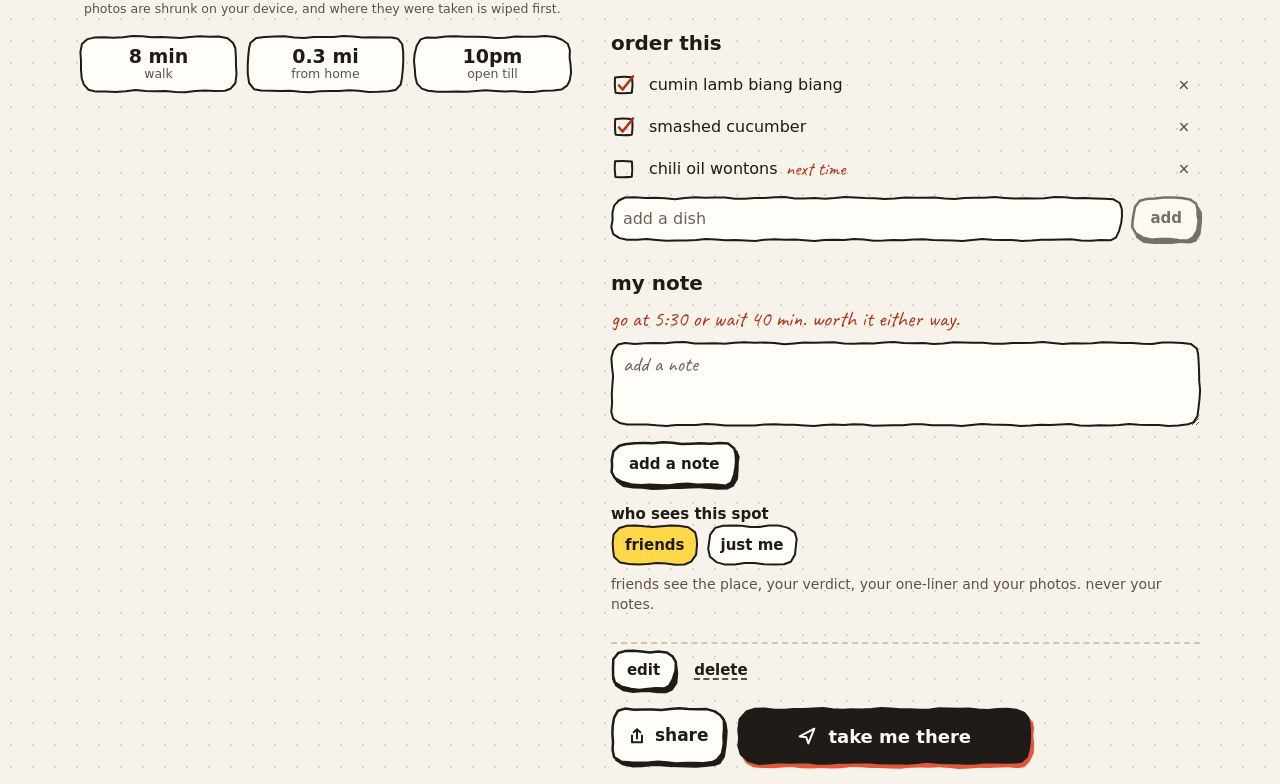
Test: on the place page › a refused save is explained (by error code) and nothing changes
This screenshot has width=1280, height=784.
(page scrolled)
Type "one more" into the text box named "New note".
click(905, 384); type("one more")  # box [611, 342, 1200, 426]
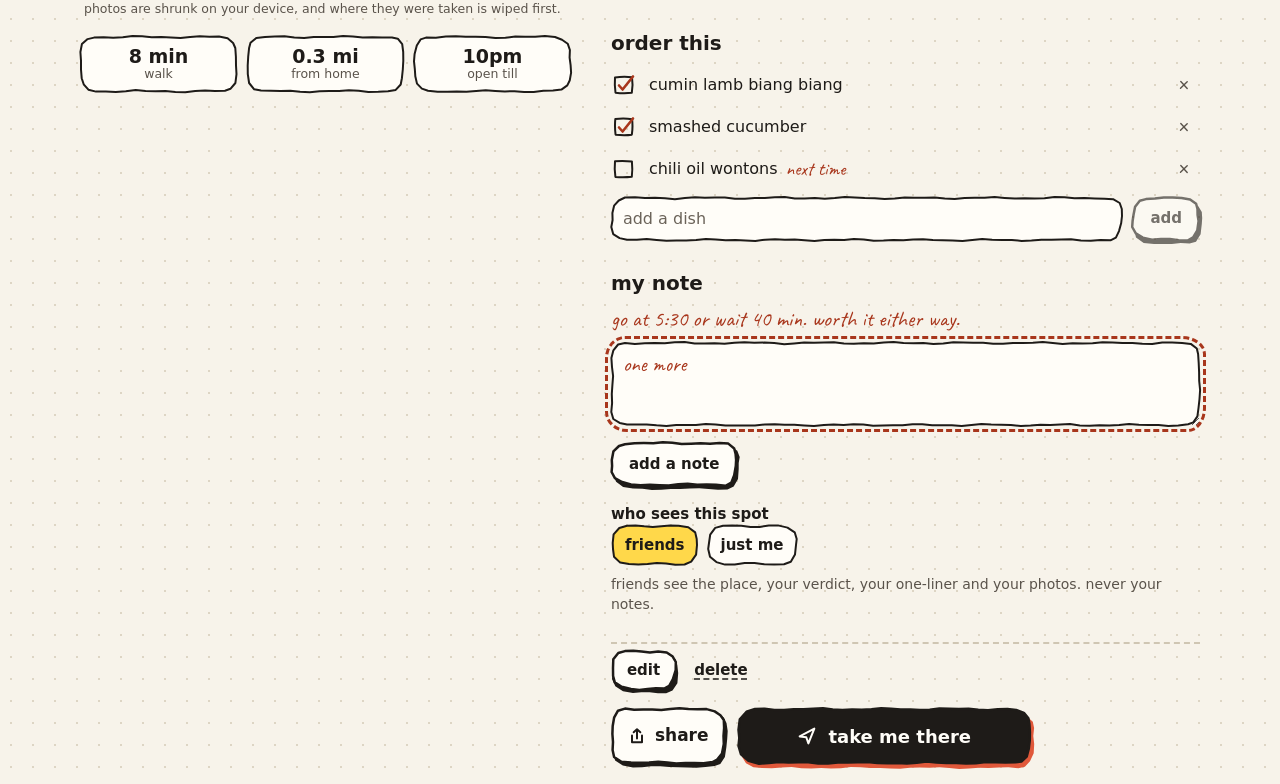
Click the button "add a note".
click(674, 464)  # box [611, 442, 737, 486]
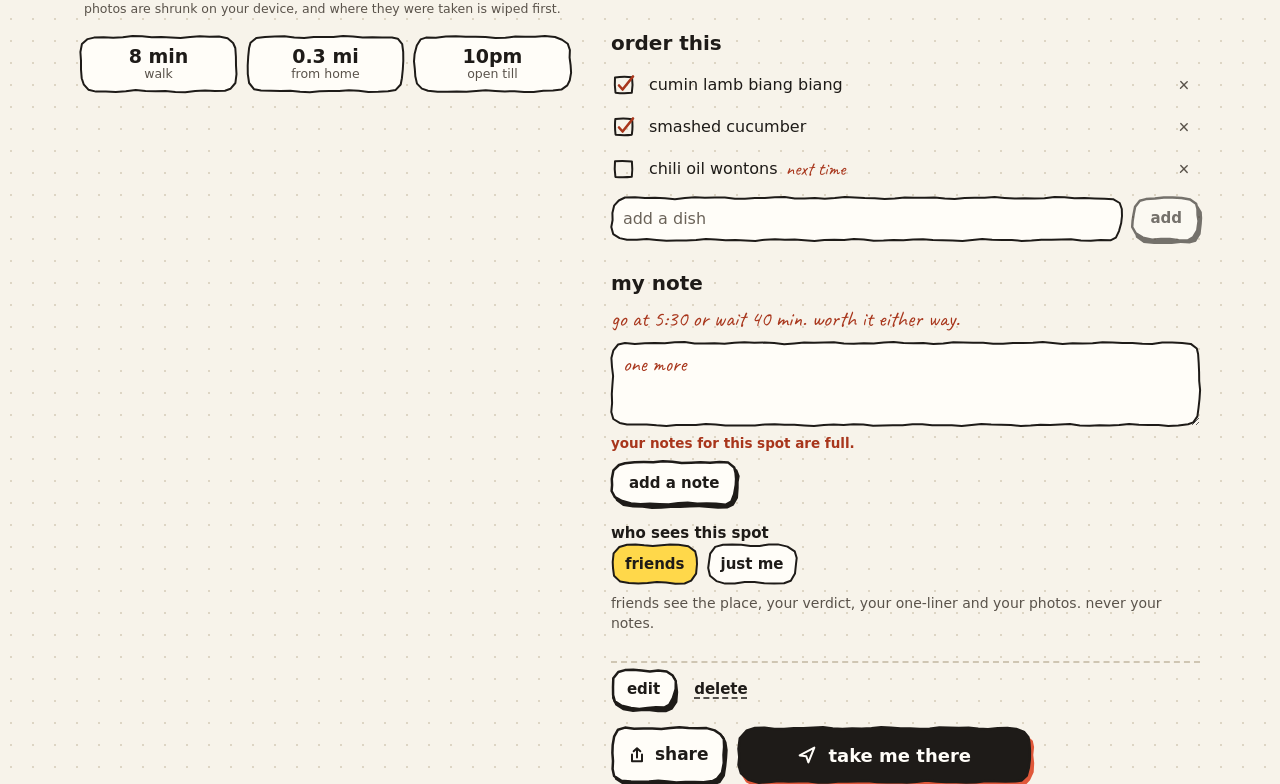
Now the message reads "your notes for this spot are full.", box [611, 435, 855, 451]
